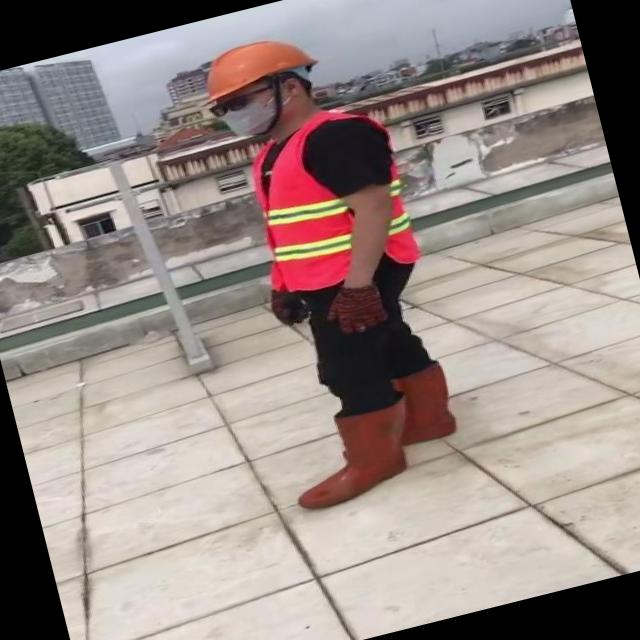boots: (278, 401, 414, 514), (384, 364, 456, 448)
gloves: (325, 258, 414, 351)
helmet: (196, 28, 322, 102)
vest: (235, 101, 429, 296)
